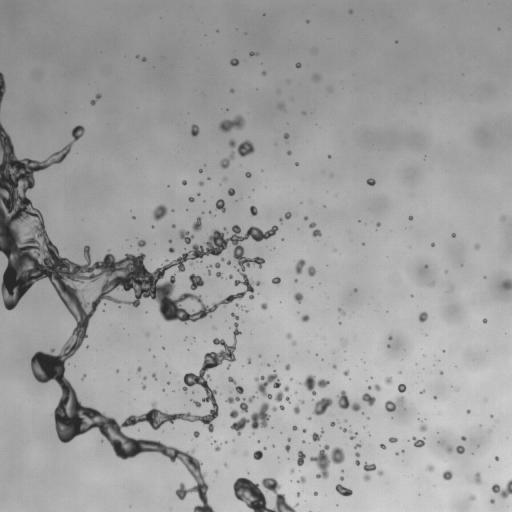droplet: (309, 444, 345, 479), (295, 374, 330, 395), (336, 390, 361, 411), (218, 115, 245, 132), (491, 478, 511, 499), (312, 397, 333, 415), (152, 204, 168, 221), (188, 273, 204, 290), (363, 461, 376, 481), (334, 484, 353, 496), (466, 472, 483, 485), (362, 392, 375, 406), (311, 427, 324, 441), (294, 259, 305, 275), (215, 198, 225, 213), (191, 216, 201, 231), (412, 436, 425, 447), (417, 418, 427, 432), (442, 469, 453, 481), (293, 290, 303, 303), (228, 127, 239, 138), (285, 138, 296, 149), (278, 139, 289, 150), (220, 145, 231, 156), (13, 149, 24, 160), (33, 151, 44, 162), (187, 173, 198, 184), (185, 184, 196, 195), (190, 202, 201, 213), (248, 215, 259, 226), (195, 235, 206, 246), (243, 237, 254, 248), (175, 242, 186, 253), (92, 251, 103, 262), (144, 261, 155, 272), (245, 265, 256, 276), (260, 272, 271, 283), (38, 276, 49, 287), (140, 295, 151, 306), (149, 298, 160, 309), (297, 301, 308, 312), (157, 370, 168, 381), (47, 378, 58, 389), (244, 383, 255, 394), (52, 386, 63, 397), (315, 387, 326, 398), (388, 389, 399, 400), (254, 393, 265, 404), (374, 396, 385, 407), (328, 401, 339, 412), (158, 402, 169, 413), (200, 402, 211, 413), (248, 402, 259, 413), (303, 402, 314, 413), (218, 404, 229, 415), (102, 407, 113, 418), (293, 414, 304, 425), (123, 425, 134, 436), (146, 429, 157, 440), (422, 430, 433, 441), (342, 446, 353, 457), (307, 461, 318, 472), (326, 461, 337, 472), (250, 473, 261, 484), (327, 474, 338, 485), (184, 476, 195, 487), (306, 476, 317, 487), (301, 482, 312, 493), (467, 482, 478, 493), (189, 494, 200, 505), (264, 496, 275, 507), (190, 124, 199, 137), (307, 265, 317, 276), (418, 311, 428, 322), (137, 239, 146, 250), (502, 279, 511, 290), (271, 276, 281, 285), (455, 445, 465, 454), (253, 450, 262, 460), (249, 205, 257, 216), (292, 403, 300, 414), (337, 307, 346, 316), (226, 111, 235, 120), (242, 119, 251, 128), (4, 126, 13, 135), (54, 142, 63, 151), (25, 189, 34, 198), (223, 195, 232, 204), (147, 203, 156, 212), (183, 222, 192, 231), (170, 230, 179, 239), (172, 249, 181, 258), (243, 249, 252, 258), (113, 252, 122, 261), (168, 252, 177, 261), (76, 256, 85, 265), (253, 295, 262, 304), (171, 318, 180, 327), (213, 344, 222, 353), (262, 367, 271, 376), (62, 370, 71, 379), (132, 374, 141, 383), (193, 383, 202, 392), (265, 383, 274, 392), (242, 388, 251, 397), (79, 398, 88, 407), (268, 398, 277, 407), (359, 400, 368, 409), (230, 401, 239, 410), (284, 402, 293, 411), (236, 410, 245, 419), (242, 410, 251, 419), (194, 420, 203, 429), (198, 423, 207, 432), (161, 437, 170, 446), (317, 437, 326, 446), (105, 444, 114, 453), (152, 450, 161, 459), (136, 451, 145, 460), (192, 451, 201, 460), (204, 489, 213, 498), (284, 495, 293, 504), (229, 58, 239, 66), (300, 314, 310, 322), (425, 464, 435, 472), (311, 74, 320, 82), (277, 102, 285, 111), (366, 178, 375, 186), (312, 229, 321, 237), (296, 476, 306, 483), (486, 505, 497, 511), (227, 188, 235, 196), (260, 302, 268, 310), (384, 376, 392, 384), (445, 445, 453, 453), (284, 211, 291, 219), (374, 383, 381, 391), (0, 251, 5, 262), (0, 264, 5, 275), (0, 289, 5, 300), (388, 437, 398, 442), (168, 246, 175, 253), (216, 271, 223, 278), (428, 280, 435, 287), (342, 369, 349, 376), (2, 75, 9, 82), (10, 138, 17, 145), (234, 138, 241, 145), (244, 153, 251, 160), (289, 154, 296, 161), (222, 167, 229, 174), (32, 170, 39, 177), (198, 173, 205, 180), (197, 185, 204, 192), (164, 202, 171, 209), (255, 205, 262, 212), (160, 215, 167, 222), (149, 217, 156, 224), (175, 223, 182, 230), (260, 225, 267, 232), (188, 228, 195, 235), (239, 228, 246, 235), (185, 243, 192, 250), (138, 246, 145, 253), (132, 249, 139, 256), (57, 250, 64, 257), (97, 254, 104, 261), (289, 261, 296, 268), (301, 265, 308, 272), (290, 271, 297, 278), (24, 289, 31, 296), (139, 296, 146, 303), (96, 302, 103, 309), (92, 310, 99, 317), (156, 312, 163, 319), (87, 317, 94, 324), (70, 320, 77, 327), (85, 326, 92, 333), (225, 338, 232, 345), (78, 344, 85, 351), (42, 347, 49, 354), (52, 349, 59, 356), (221, 358, 228, 365), (196, 360, 203, 367), (337, 365, 344, 372), (205, 367, 212, 374), (299, 375, 306, 382), (378, 379, 385, 386), (391, 381, 398, 388), (228, 382, 235, 389), (312, 383, 319, 390), (300, 384, 307, 391), (368, 389, 375, 396), (231, 390, 238, 397), (347, 397, 354, 404), (279, 398, 286, 405), (51, 400, 58, 407), (92, 403, 99, 410), (155, 403, 162, 410), (142, 406, 149, 413), (345, 406, 352, 413), (167, 408, 174, 415), (265, 408, 272, 415), (311, 413, 318, 420), (233, 415, 240, 422), (48, 416, 55, 423), (115, 417, 122, 424), (210, 418, 217, 425), (266, 418, 273, 425), (142, 420, 149, 427), (163, 420, 170, 427), (244, 422, 251, 429), (323, 424, 330, 431), (92, 426, 99, 433), (120, 426, 127, 433), (50, 429, 57, 436), (73, 434, 80, 441), (336, 441, 343, 448), (439, 442, 446, 449), (255, 443, 262, 450), (177, 444, 184, 451), (324, 449, 331, 456), (311, 450, 318, 457), (114, 455, 121, 462), (125, 456, 132, 463), (439, 465, 446, 472), (314, 466, 321, 473), (368, 469, 375, 476), (467, 470, 474, 477), (203, 476, 210, 483), (341, 480, 348, 487), (499, 482, 506, 489), (295, 483, 302, 490), (258, 484, 265, 491), (276, 487, 283, 494), (493, 492, 500, 499), (206, 498, 213, 505), (151, 372, 157, 380), (284, 444, 290, 452), (468, 494, 476, 500), (506, 271, 511, 280), (309, 222, 316, 228), (474, 243, 480, 250), (284, 364, 290, 371), (193, 430, 199, 437), (379, 443, 386, 449), (354, 459, 360, 466), (376, 470, 383, 476), (141, 382, 146, 390), (295, 62, 301, 68), (283, 133, 289, 139), (245, 171, 251, 177), (181, 179, 187, 185), (225, 259, 231, 265), (292, 425, 298, 431), (0, 300, 4, 309), (197, 181, 204, 186), (136, 366, 141, 373), (188, 197, 194, 202), (500, 215, 505, 221), (388, 334, 393, 340), (419, 389, 425, 394), (298, 399, 304, 404), (460, 436, 466, 441), (354, 452, 360, 457), (290, 468, 295, 474), (247, 357, 251, 364), (507, 288, 511, 295), (507, 492, 511, 499), (187, 507, 194, 511), (247, 507, 254, 511), (348, 9, 353, 14), (261, 70, 266, 75), (229, 88, 234, 93), (286, 150, 291, 155), (222, 176, 227, 181), (408, 215, 413, 220), (430, 242, 435, 247), (482, 318, 487, 323), (332, 364, 337, 369), (494, 456, 499, 461), (490, 498, 495, 503), (145, 55, 150, 60), (237, 57, 242, 62), (231, 65, 236, 70), (265, 70, 270, 75), (259, 74, 264, 79), (97, 89, 102, 94), (1, 94, 6, 99), (95, 98, 100, 103), (85, 99, 90, 104), (90, 104, 95, 109), (194, 120, 199, 125), (70, 123, 75, 128), (285, 128, 290, 133), (186, 129, 191, 134), (196, 132, 201, 137), (278, 133, 283, 138), (68, 135, 73, 140), (192, 135, 197, 140), (77, 136, 82, 141), (252, 143, 257, 148), (285, 145, 290, 150), (232, 146, 237, 151), (69, 147, 74, 152), (234, 151, 239, 156), (65, 153, 70, 158), (29, 155, 34, 160), (62, 157, 67, 162), (228, 159, 233, 164), (52, 162, 57, 167), (216, 164, 221, 169), (177, 178, 182, 183), (202, 178, 207, 183), (32, 184, 37, 189), (367, 184, 372, 189), (191, 192, 196, 197), (232, 193, 237, 198), (199, 194, 204, 199), (188, 201, 193, 206), (211, 203, 216, 208), (165, 208, 170, 213), (216, 208, 221, 213), (245, 208, 250, 213), (196, 211, 201, 216), (289, 215, 294, 220), (191, 217, 196, 222), (281, 217, 286, 222), (200, 218, 205, 223), (306, 218, 311, 223), (231, 220, 236, 225), (274, 220, 279, 225), (44, 226, 49, 231), (310, 226, 315, 231), (218, 227, 223, 232), (319, 228, 324, 233), (222, 234, 227, 239), (137, 235, 142, 240), (247, 235, 252, 240), (268, 235, 273, 240), (179, 238, 184, 243), (260, 238, 265, 243), (51, 239, 56, 244), (189, 239, 194, 244), (237, 240, 242, 245), (167, 242, 172, 247), (202, 243, 207, 248), (88, 249, 93, 254), (258, 253, 263, 258), (299, 254, 304, 259), (89, 260, 94, 265), (313, 264, 318, 269), (290, 266, 295, 271), (313, 272, 318, 277), (295, 273, 300, 278), (246, 274, 251, 279), (308, 275, 313, 280), (251, 283, 256, 288), (299, 289, 304, 294), (52, 290, 57, 295), (245, 290, 250, 295), (251, 290, 256, 295), (290, 290, 295, 295), (56, 297, 61, 302), (99, 298, 104, 303), (232, 298, 237, 303), (300, 298, 305, 303), (292, 299, 297, 304), (58, 300, 63, 305), (266, 303, 271, 308), (217, 304, 222, 309), (340, 304, 345, 309), (256, 305, 261, 310), (419, 307, 424, 312), (259, 308, 264, 313), (263, 308, 268, 313), (345, 309, 350, 314), (334, 310, 339, 315), (299, 311, 304, 316), (426, 311, 431, 316), (307, 312, 312, 317), (67, 313, 72, 318), (414, 313, 419, 318), (204, 314, 209, 319), (230, 316, 235, 321), (186, 319, 191, 324), (303, 320, 308, 325), (422, 320, 427, 325), (230, 325, 235, 330), (285, 327, 290, 332), (280, 332, 285, 337), (291, 334, 296, 339), (82, 337, 87, 342), (286, 338, 291, 343), (387, 339, 392, 344), (184, 341, 189, 346), (232, 350, 237, 355), (29, 351, 34, 356), (147, 351, 152, 356), (317, 353, 322, 358), (26, 358, 31, 363), (230, 360, 235, 365), (63, 361, 68, 366), (280, 362, 285, 367), (215, 364, 220, 369), (289, 364, 294, 369), (167, 365, 172, 370), (185, 368, 190, 373), (27, 369, 32, 374), (268, 369, 273, 374), (139, 370, 144, 375), (194, 371, 199, 376), (347, 372, 352, 377), (385, 372, 390, 377), (179, 373, 184, 378), (146, 374, 151, 379), (30, 375, 35, 380), (232, 375, 237, 380), (322, 375, 327, 380), (343, 375, 348, 380), (313, 377, 318, 382), (32, 378, 37, 383), (142, 379, 147, 384), (38, 381, 43, 386), (206, 381, 211, 386), (236, 381, 241, 386), (162, 383, 167, 388), (325, 383, 330, 388), (278, 385, 283, 390), (340, 385, 345, 390), (179, 389, 184, 394), (306, 389, 311, 394), (256, 391, 261, 396), (282, 391, 287, 396), (401, 391, 406, 396), (202, 392, 207, 397), (213, 393, 218, 398), (238, 393, 243, 398), (196, 397, 201, 402), (391, 397, 396, 402), (215, 399, 220, 404), (275, 401, 280, 406), (402, 402, 407, 407), (297, 403, 302, 408), (325, 406, 330, 411), (394, 406, 399, 411), (182, 408, 187, 413), (276, 408, 281, 413), (356, 409, 361, 414), (389, 410, 394, 415), (360, 414, 365, 419), (173, 418, 178, 423), (363, 419, 368, 424), (422, 419, 427, 424), (416, 421, 421, 426), (334, 422, 339, 427), (341, 422, 346, 427), (203, 423, 208, 428), (159, 424, 164, 429), (256, 425, 261, 430), (297, 426, 302, 431), (231, 428, 236, 433), (315, 429, 320, 434), (344, 431, 349, 436), (390, 432, 395, 437), (100, 434, 105, 439), (416, 434, 421, 439), (307, 435, 312, 440), (54, 436, 59, 441), (227, 439, 232, 444), (351, 439, 356, 444), (283, 440, 288, 445), (383, 440, 388, 445), (459, 440, 464, 445), (391, 441, 396, 446), (212, 442, 217, 447), (266, 444, 271, 449), (319, 444, 324, 449), (451, 444, 456, 449), (419, 445, 424, 450), (280, 446, 285, 451), (355, 447, 360, 452), (451, 448, 456, 453), (249, 449, 254, 454), (463, 449, 468, 454), (261, 450, 266, 455), (248, 452, 253, 457), (455, 452, 460, 457), (460, 452, 465, 457), (293, 454, 298, 459), (165, 456, 170, 461), (259, 456, 264, 461), (303, 456, 308, 461), (174, 457, 179, 462), (292, 459, 297, 464), (366, 460, 371, 465), (427, 460, 432, 465), (359, 461, 364, 466), (421, 463, 426, 468), (199, 465, 204, 470), (375, 465, 380, 470), (361, 469, 366, 474), (425, 470, 430, 475), (337, 471, 342, 476), (242, 473, 247, 478), (265, 473, 270, 478), (479, 473, 484, 478), (245, 474, 250, 479), (438, 474, 443, 479), (450, 475, 455, 480), (318, 476, 323, 481), (231, 477, 236, 482), (442, 478, 447, 483), (447, 478, 452, 483), (276, 479, 281, 484), (367, 479, 372, 484), (291, 480, 296, 485), (363, 480, 368, 485), (488, 481, 493, 486), (487, 487, 492, 492), (229, 488, 234, 493), (173, 494, 178, 499), (340, 494, 345, 499), (345, 494, 350, 499), (232, 496, 237, 501), (470, 499, 475, 504), (293, 505, 298, 510), (211, 325, 217, 329), (191, 336, 195, 342), (0, 276, 3, 283), (141, 57, 146, 61), (301, 111, 306, 115), (294, 162, 299, 166), (206, 176, 211, 180), (303, 216, 308, 220), (228, 274, 233, 278), (184, 336, 188, 341), (397, 370, 402, 374), (439, 370, 443, 375), (142, 376, 147, 380), (367, 385, 371, 390), (454, 387, 459, 391), (466, 409, 470, 414), (306, 416, 311, 420), (342, 419, 347, 423), (302, 428, 306, 433), (487, 429, 492, 433), (287, 437, 291, 442), (223, 462, 227, 467), (214, 469, 218, 474), (339, 476, 344, 480), (312, 491, 317, 495), (296, 492, 300, 497), (135, 54, 139, 58), (198, 169, 202, 173), (376, 222, 380, 226), (171, 224, 175, 228), (451, 233, 455, 237), (168, 239, 172, 243), (459, 263, 463, 267), (424, 264, 428, 268), (353, 288, 357, 292), (145, 332, 149, 336), (161, 346, 165, 350), (289, 377, 293, 381), (166, 381, 170, 385), (433, 395, 437, 399), (310, 397, 314, 401), (244, 451, 248, 455), (340, 469, 344, 473), (294, 278, 297, 283), (100, 439, 103, 444), (306, 19, 309, 23), (394, 40, 398, 43), (328, 154, 331, 158), (330, 173, 333, 177), (131, 216, 135, 219), (361, 242, 365, 245), (338, 321, 341, 325), (86, 344, 89, 348), (387, 344, 390, 348), (442, 349, 445, 353), (332, 351, 336, 354), (422, 354, 426, 357), (266, 363, 270, 366), (116, 369, 119, 373), (483, 398, 487, 401), (361, 411, 364, 415), (490, 414, 493, 418), (301, 440, 305, 443), (263, 446, 266, 450), (165, 362, 167, 367), (497, 27, 500, 30), (216, 29, 219, 32), (197, 193, 200, 196), (171, 209, 174, 212), (185, 208, 188, 211), (201, 211, 204, 214), (151, 225, 154, 228), (281, 238, 284, 241), (333, 248, 336, 251), (444, 270, 447, 273), (410, 294, 413, 297), (103, 302, 106, 305), (145, 310, 148, 313), (424, 333, 427, 336), (315, 353, 318, 356), (258, 354, 261, 357), (276, 354, 279, 357), (370, 376, 373, 379), (162, 388, 165, 391), (191, 391, 194, 394), (229, 390, 232, 393), (366, 416, 369, 419), (224, 440, 227, 443), (257, 440, 260, 443), (401, 449, 404, 452), (395, 452, 398, 455), (286, 457, 289, 460), (246, 471, 249, 474), (259, 12, 262, 15), (265, 12, 268, 15), (262, 15, 265, 18), (306, 16, 309, 19), (303, 21, 306, 24), (308, 21, 311, 24), (212, 29, 215, 32), (393, 37, 396, 40), (393, 42, 396, 45), (247, 49, 250, 52), (252, 49, 255, 52), (246, 53, 249, 56), (132, 54, 135, 57), (252, 54, 255, 57), (138, 56, 141, 59), (293, 60, 296, 63), (299, 60, 302, 63), (141, 61, 144, 64), (300, 63, 303, 66), (292, 64, 295, 67), (297, 67, 300, 70), (259, 68, 262, 71), (232, 86, 235, 89), (226, 88, 229, 91), (229, 92, 232, 95), (226, 105, 229, 108), (222, 107, 225, 110), (287, 136, 290, 139), (284, 138, 287, 141), (284, 152, 287, 155), (290, 152, 293, 155), (324, 154, 327, 157), (330, 154, 333, 157), (421, 155, 424, 158), (424, 156, 427, 159), (327, 157, 330, 160), (295, 158, 298, 161), (298, 162, 301, 165), (199, 165, 202, 168), (295, 165, 298, 168), (202, 168, 205, 171), (245, 168, 248, 171), (195, 169, 198, 172), (248, 169, 251, 172), (199, 172, 202, 175), (208, 174, 211, 177), (250, 174, 253, 177), (243, 175, 246, 178), (370, 175, 373, 178), (365, 176, 368, 179), (246, 177, 249, 180), (186, 180, 189, 183), (220, 180, 223, 183), (167, 181, 170, 184), (373, 183, 376, 186), (163, 184, 166, 187), (183, 184, 186, 187), (167, 186, 170, 189), (233, 187, 236, 190), (216, 196, 219, 199), (185, 197, 188, 200), (322, 201, 325, 204), (223, 204, 226, 207), (173, 207, 176, 210), (322, 207, 325, 210), (187, 208, 190, 211), (39, 209, 42, 212), (205, 209, 208, 212), (184, 210, 187, 213), (290, 211, 293, 214), (131, 212, 134, 215), (409, 212, 412, 215), (303, 213, 306, 216), (405, 215, 408, 218), (135, 216, 138, 219), (300, 216, 303, 219), (357, 216, 360, 219), (412, 216, 415, 219), (131, 218, 134, 221), (408, 219, 411, 222), (360, 220, 363, 223), (379, 220, 382, 223), (356, 221, 359, 224), (43, 222, 46, 225), (148, 223, 151, 226), (168, 223, 171, 226), (237, 223, 240, 226), (277, 225, 280, 228), (148, 226, 151, 229), (376, 226, 379, 229), (152, 227, 155, 230), (275, 230, 278, 233), (449, 230, 452, 233), (455, 233, 458, 236), (315, 235, 318, 238), (449, 235, 452, 238), (167, 236, 170, 239), (283, 238, 286, 241), (428, 240, 431, 243), (85, 242, 88, 245), (358, 242, 361, 245), (364, 242, 367, 245), (434, 242, 437, 245), (361, 245, 364, 248), (431, 246, 434, 249), (165, 261, 168, 264), (255, 263, 258, 266), (421, 263, 424, 266), (456, 263, 459, 266), (427, 264, 430, 267), (423, 267, 426, 270), (482, 272, 485, 275), (273, 274, 276, 277), (277, 274, 280, 277), (479, 275, 482, 278), (486, 275, 489, 278), (482, 278, 485, 281), (268, 279, 271, 282), (291, 279, 294, 282), (279, 280, 282, 283), (258, 283, 261, 286), (273, 283, 276, 286), (353, 284, 356, 287), (356, 286, 359, 289), (350, 288, 353, 291), (354, 291, 357, 294), (412, 292, 415, 295), (407, 295, 410, 298), (411, 296, 414, 299), (251, 298, 254, 301), (276, 299, 279, 302), (281, 299, 284, 302), (116, 302, 119, 305), (129, 303, 132, 306), (137, 304, 140, 307), (338, 304, 341, 307), (242, 306, 245, 309), (247, 311, 250, 314), (238, 316, 241, 319), (480, 316, 483, 319), (337, 318, 340, 321), (235, 319, 238, 322), (479, 319, 482, 322), (486, 320, 489, 323), (335, 322, 338, 325), (340, 322, 343, 325), (482, 322, 485, 325), (237, 328, 240, 331), (230, 332, 233, 335), (192, 333, 195, 336), (235, 334, 238, 337), (391, 334, 394, 337), (181, 335, 184, 338), (385, 335, 388, 338), (211, 336, 214, 339), (185, 337, 188, 340), (190, 337, 193, 340), (194, 337, 197, 340), (192, 342, 195, 345), (163, 344, 166, 347), (383, 344, 386, 347), (188, 346, 191, 349), (343, 346, 346, 349), (442, 346, 445, 349), (159, 347, 162, 350), (386, 347, 389, 350), (184, 349, 187, 352), (439, 350, 442, 353), (277, 351, 280, 354), (154, 353, 157, 356), (312, 353, 315, 356), (149, 355, 152, 358), (260, 355, 263, 358), (273, 355, 276, 358), (315, 355, 318, 358), (277, 356, 280, 359), (362, 357, 365, 360), (323, 358, 326, 361), (245, 359, 248, 362), (250, 359, 253, 362), (264, 360, 267, 363), (267, 360, 270, 363), (162, 362, 165, 365), (167, 363, 170, 366), (247, 363, 250, 366), (329, 363, 332, 366), (134, 366, 137, 369), (228, 366, 231, 369), (272, 366, 275, 369), (332, 368, 335, 371), (395, 368, 398, 371), (400, 368, 403, 371), (112, 369, 115, 372), (118, 369, 121, 372), (165, 370, 168, 373), (436, 370, 439, 373), (442, 370, 445, 373), (170, 371, 173, 374), (370, 373, 373, 376), (79, 374, 82, 377), (439, 374, 442, 377), (83, 376, 86, 379), (225, 377, 228, 380), (367, 377, 370, 380), (165, 378, 168, 381), (128, 379, 131, 382), (291, 379, 294, 382), (400, 380, 403, 383), (229, 381, 232, 384), (139, 383, 142, 386), (452, 383, 455, 386), (370, 384, 373, 387), (241, 385, 244, 388), (159, 386, 162, 389), (405, 386, 408, 389), (144, 387, 147, 390), (450, 387, 453, 390), (424, 388, 427, 391), (396, 390, 399, 393), (161, 391, 164, 394), (171, 391, 174, 394), (433, 392, 436, 395), (419, 393, 422, 396), (436, 396, 439, 399), (239, 398, 242, 401), (288, 398, 291, 401), (432, 398, 435, 401), (192, 402, 195, 405), (467, 406, 470, 409), (463, 409, 466, 412), (469, 410, 472, 413), (490, 411, 493, 414), (416, 414, 419, 417), (487, 415, 490, 418), (492, 415, 495, 418), (419, 416, 422, 419), (332, 418, 335, 421), (307, 419, 310, 422), (327, 421, 330, 424), (292, 422, 295, 425), (329, 425, 332, 428), (289, 426, 292, 429), (272, 427, 275, 430), (322, 427, 325, 430), (364, 427, 367, 430), (279, 428, 282, 431), (435, 428, 438, 431), (293, 429, 296, 432), (352, 429, 355, 432), (276, 431, 279, 434), (357, 431, 360, 434), (369, 431, 372, 434), (365, 432, 368, 435), (198, 433, 201, 436), (462, 433, 465, 436), (191, 434, 194, 437), (355, 434, 358, 437), (256, 436, 259, 439), (436, 437, 439, 440), (210, 439, 213, 442), (423, 439, 426, 442), (221, 440, 224, 443), (439, 440, 442, 443), (287, 441, 290, 444), (273, 442, 276, 445), (415, 446, 418, 449), (379, 447, 382, 450), (215, 450, 218, 453), (302, 450, 305, 453), (398, 451, 401, 454), (496, 453, 499, 456), (394, 454, 397, 457), (470, 454, 473, 457), (355, 456, 358, 459), (278, 457, 281, 460), (498, 457, 501, 460), (275, 458, 278, 461), (492, 458, 495, 461), (226, 462, 229, 465), (353, 463, 356, 466), (221, 464, 224, 467), (343, 468, 346, 471), (287, 469, 290, 472), (473, 470, 476, 473), (312, 474, 315, 477), (380, 474, 383, 477), (332, 485, 335, 488), (314, 488, 317, 491), (317, 491, 320, 494), (299, 492, 302, 495), (313, 495, 316, 498), (417, 495, 420, 498), (487, 497, 490, 500), (489, 502, 492, 505), (332, 503, 335, 506), (309, 507, 312, 510), (357, 220, 361, 222), (262, 13, 265, 15), (244, 32, 247, 34), (226, 108, 229, 110), (274, 143, 277, 145), (261, 169, 263, 172), (167, 185, 170, 187), (248, 196, 250, 199), (323, 205, 326, 207), (483, 276, 486, 278), (311, 286, 313, 289), (296, 311, 299, 313), (386, 310, 388, 313), (148, 348, 150, 351), (153, 355, 155, 358), (321, 358, 323, 361), (169, 371, 171, 374), (127, 378, 130, 380), (219, 392, 221, 395), (391, 416, 393, 419), (363, 425, 365, 428), (271, 426, 273, 429), (232, 439, 234, 442), (272, 444, 274, 447), (477, 444, 479, 447), (204, 164, 206, 166), (219, 183, 221, 185), (252, 189, 254, 191), (203, 200, 205, 202), (235, 200, 237, 202), (300, 202, 302, 204), (297, 228, 299, 230), (273, 247, 275, 249), (257, 292, 259, 294), (102, 309, 104, 311), (363, 361, 365, 363), (415, 363, 417, 365), (241, 365, 243, 367), (349, 378, 351, 380), (424, 418, 426, 420), (479, 424, 481, 426), (172, 427, 174, 429), (280, 432, 282, 434), (437, 441, 439, 443), (318, 444, 320, 446), (471, 452, 473, 454), (277, 456, 279, 458), (488, 465, 490, 467), (418, 493, 420, 495), (129, 505, 131, 507), (336, 504, 338, 506), (126, 239, 128, 240), (319, 282, 320, 284), (505, 332, 506, 334), (433, 364, 434, 366), (451, 385, 452, 387), (173, 390, 175, 391), (138, 429, 139, 431), (408, 439, 409, 441), (290, 480, 292, 481), (280, 302, 281, 303), (160, 335, 161, 336), (349, 425, 350, 426)
ligament: (385, 383, 406, 412), (0, 72, 7, 111), (228, 376, 243, 394), (339, 426, 358, 440), (285, 332, 297, 345), (296, 449, 305, 466), (90, 93, 101, 105), (234, 303, 248, 312), (271, 404, 284, 411), (353, 440, 362, 449), (208, 210, 216, 217), (249, 51, 259, 56), (278, 217, 283, 225), (81, 373, 86, 381), (206, 436, 212, 440), (294, 390, 297, 396), (367, 431, 370, 437), (187, 348, 189, 352), (343, 359, 346, 360), (308, 510, 311, 511)
